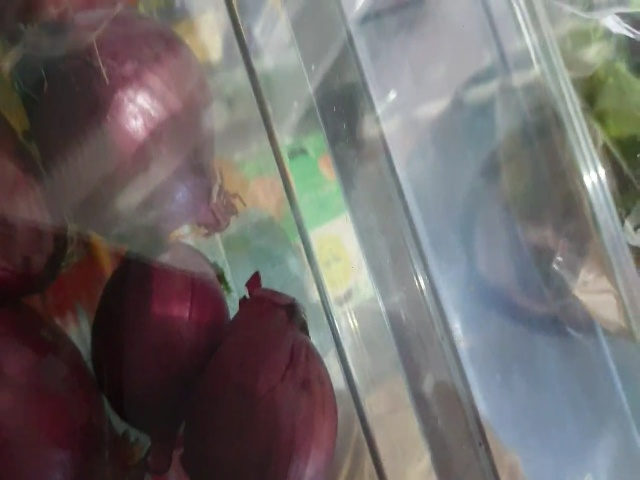red_onion: (10, 3, 247, 235), (231, 274, 352, 479), (100, 239, 224, 429)
